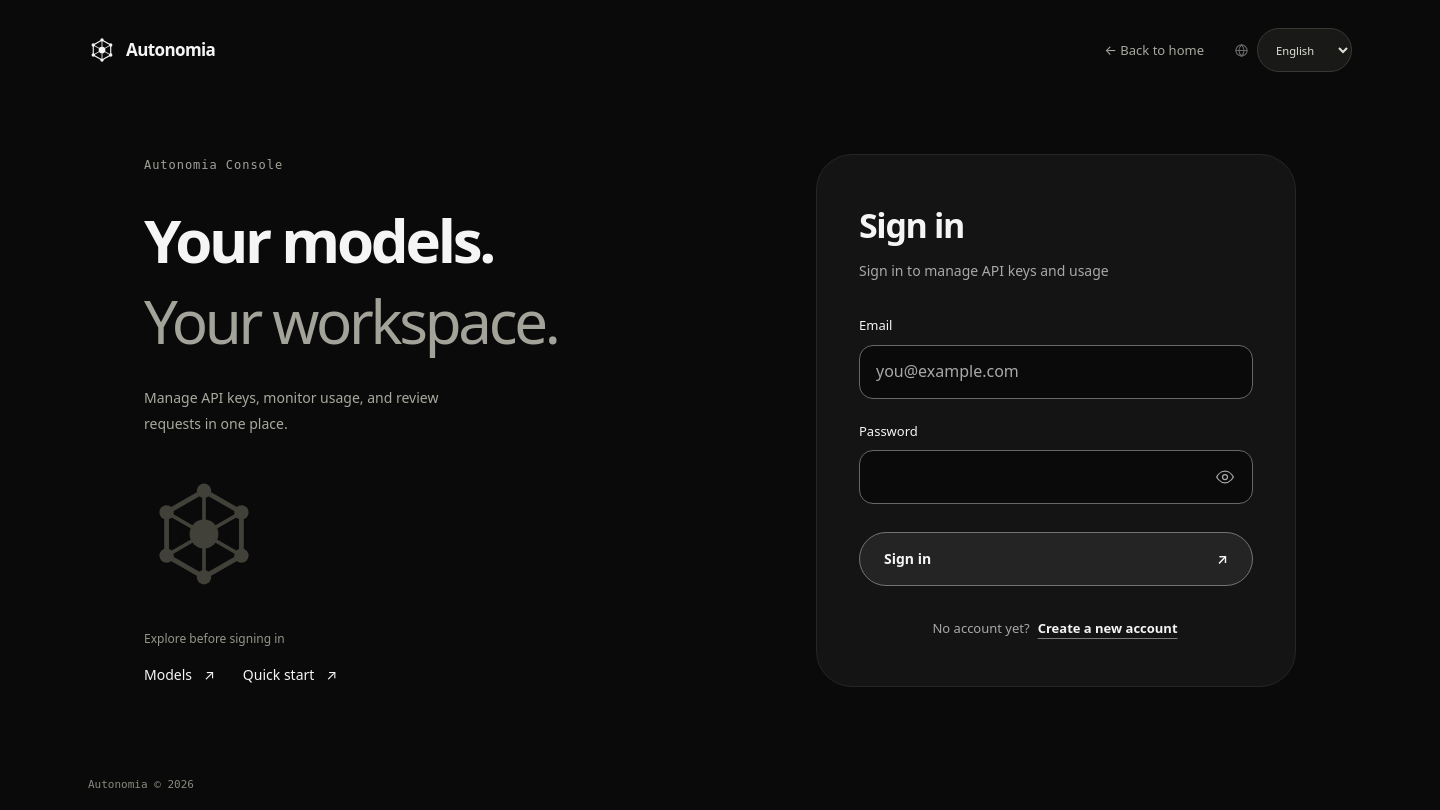
Scenario: LoginPage › toggles password visibility without losing its value in login mode
In the field labelled "Email": [1056, 372] box x1=859 y1=344 x2=1253 y2=398, type "login-test@example.com"
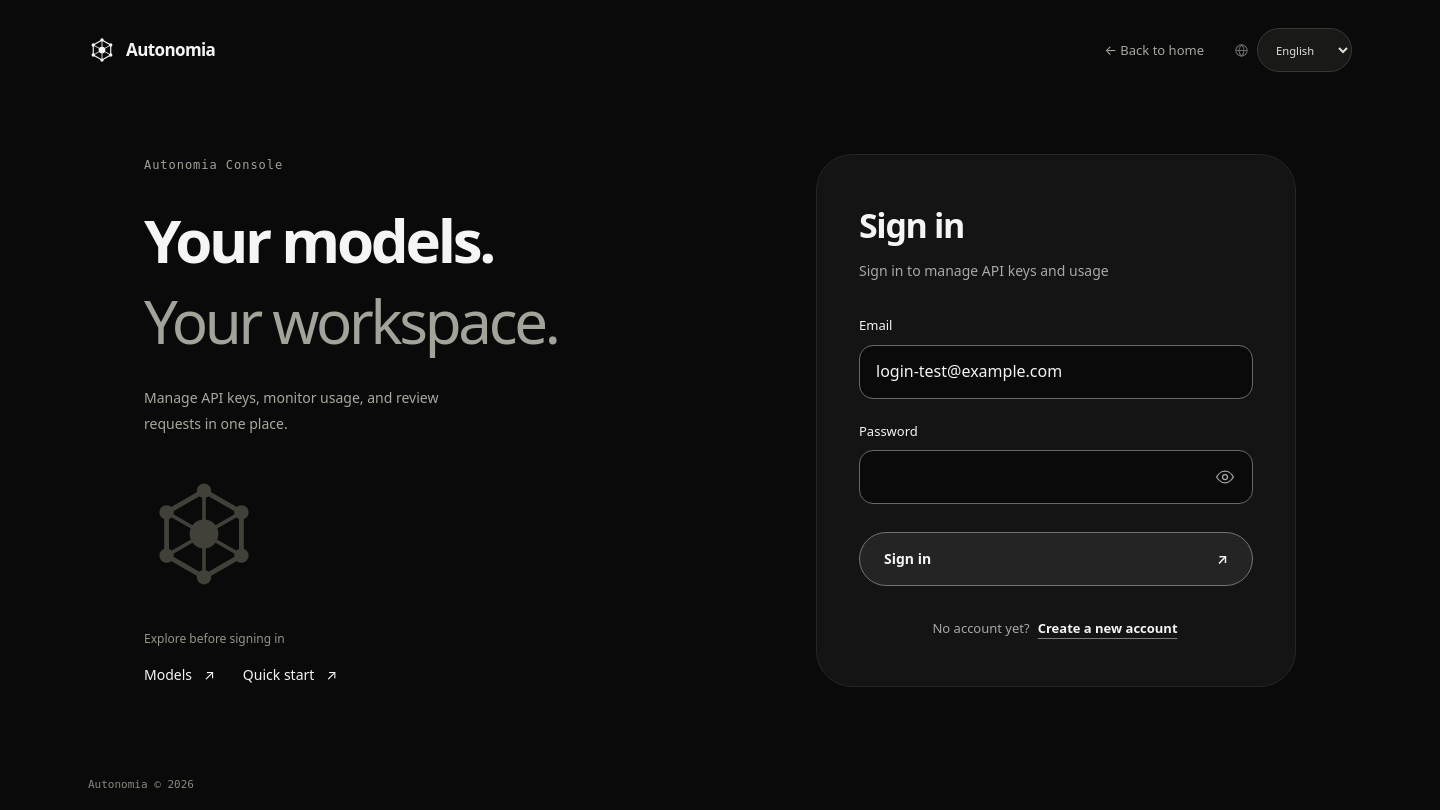
In the password field labelled "Password": [1056, 477] box x1=859 y1=450 x2=1253 y2=504, type "test-only-password"
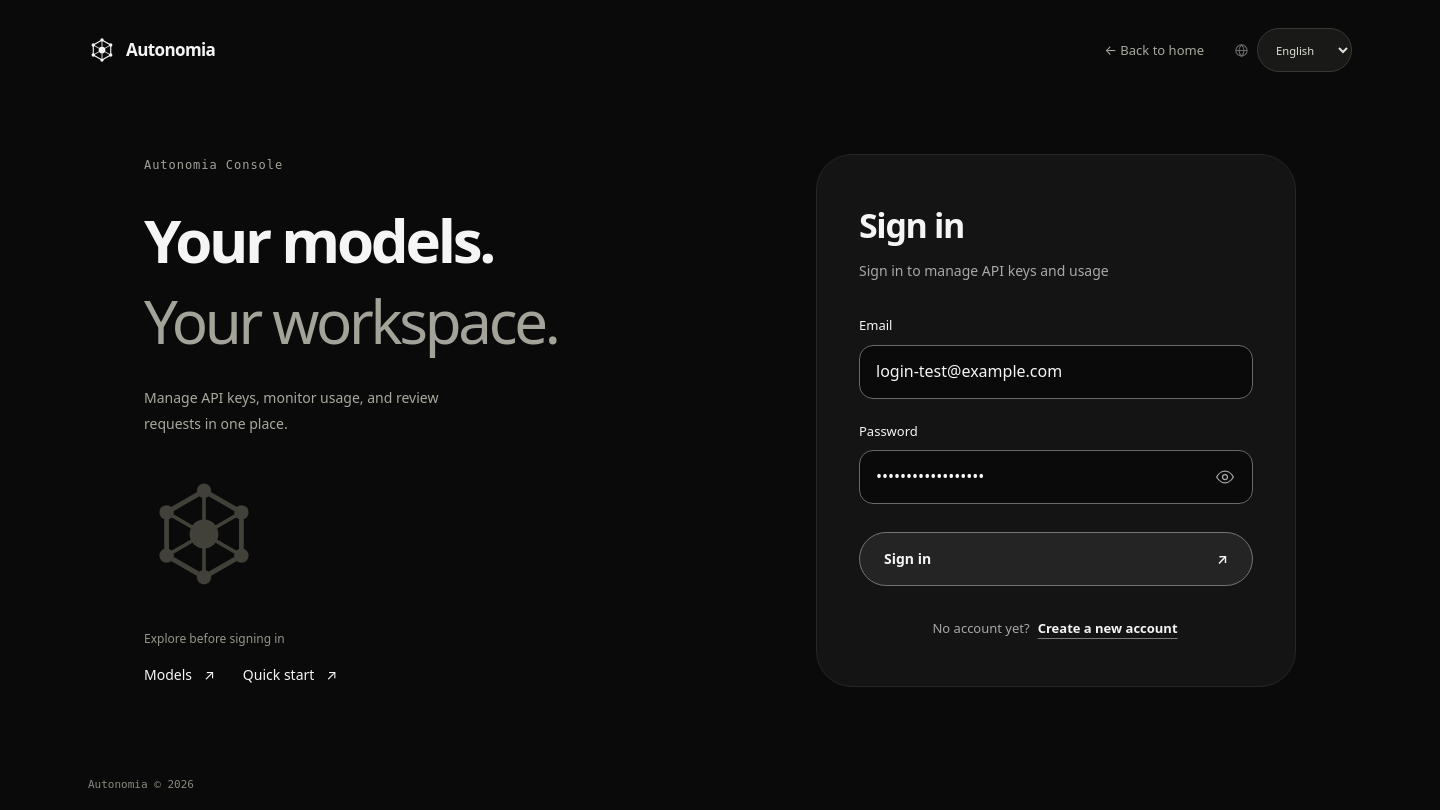
Click the button named "Show password": [1225, 477] box x1=1203 y1=455 x2=1247 y2=499
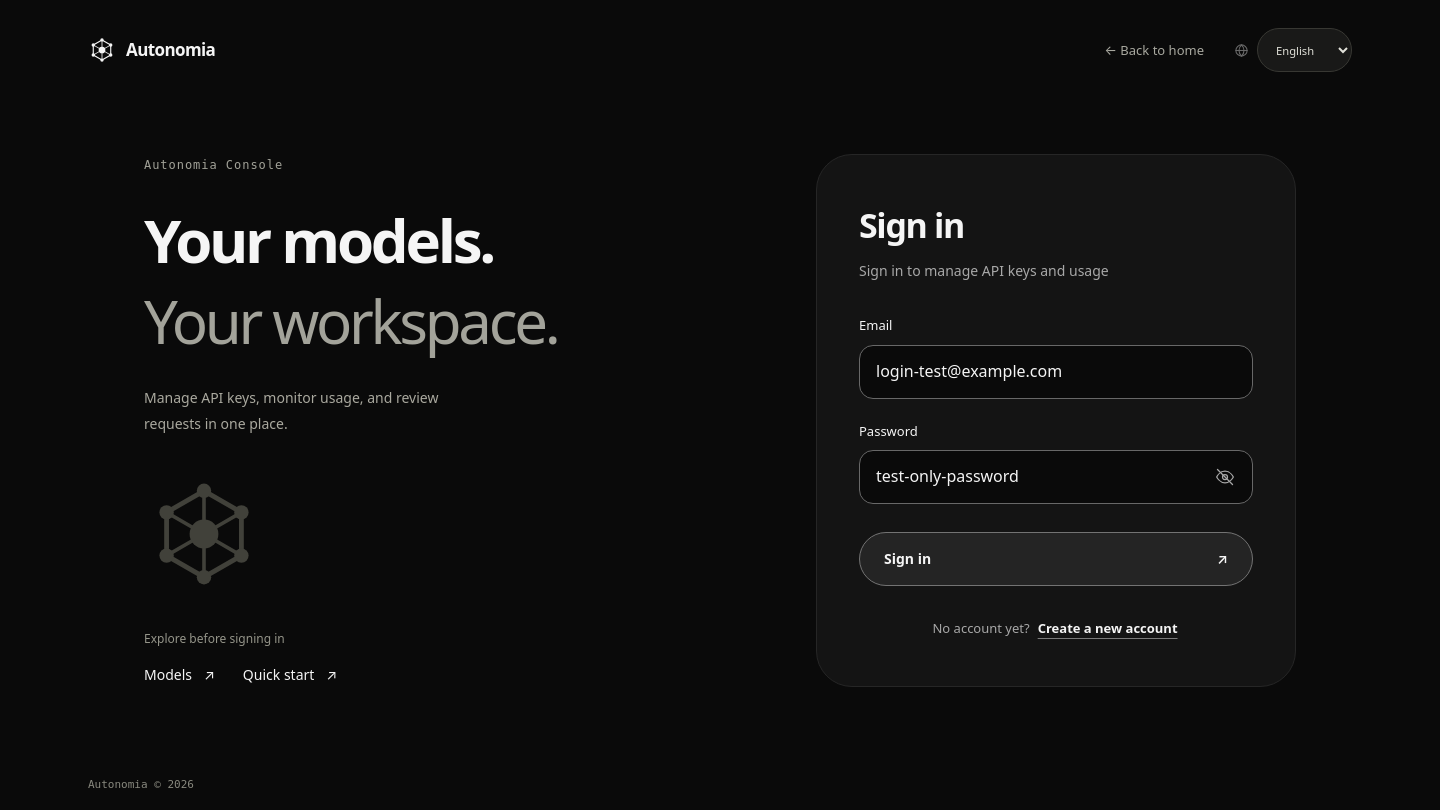
Click the button named "Hide password": [1225, 477] box x1=1203 y1=455 x2=1247 y2=499
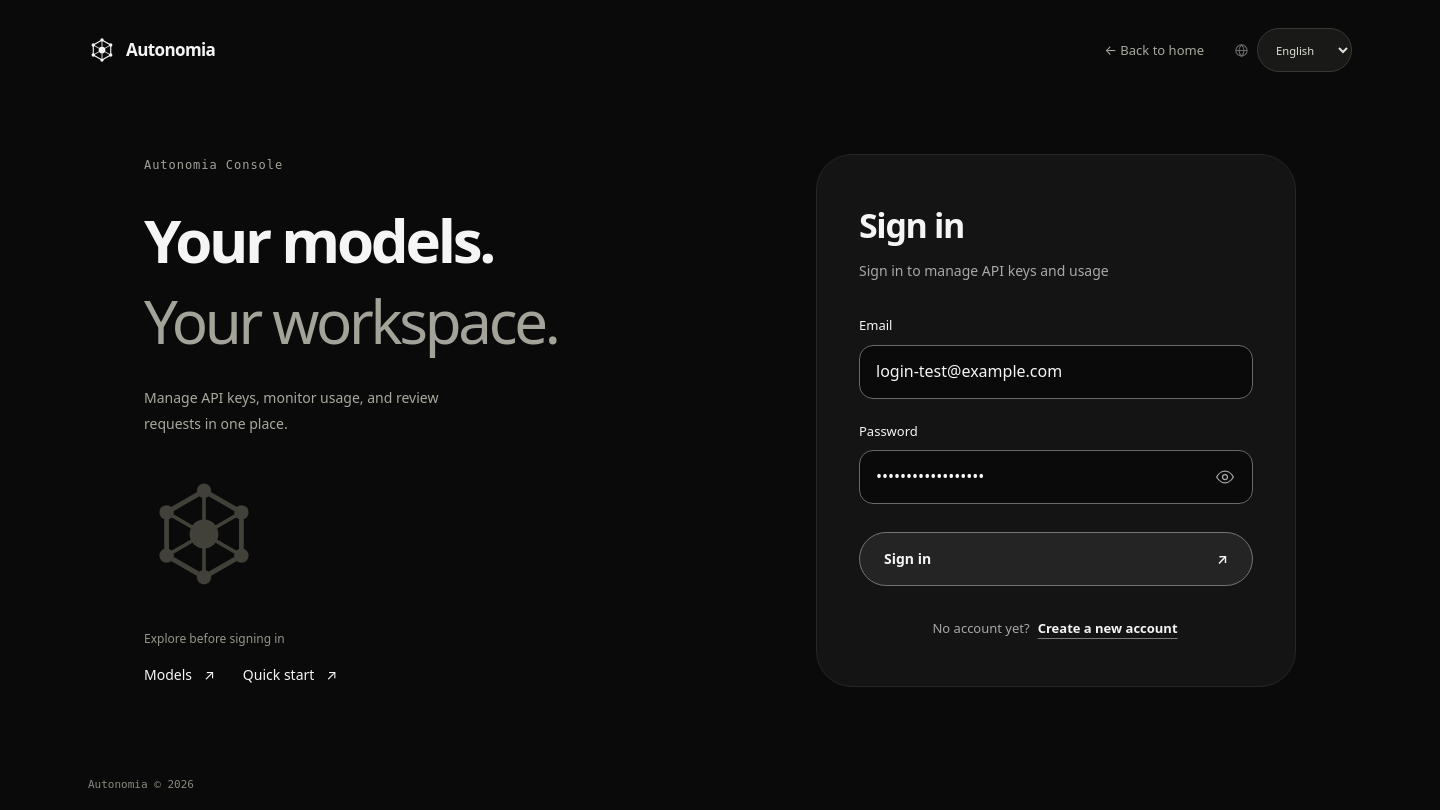
Click the button named "Show password": [1225, 477] box x1=1203 y1=455 x2=1247 y2=499
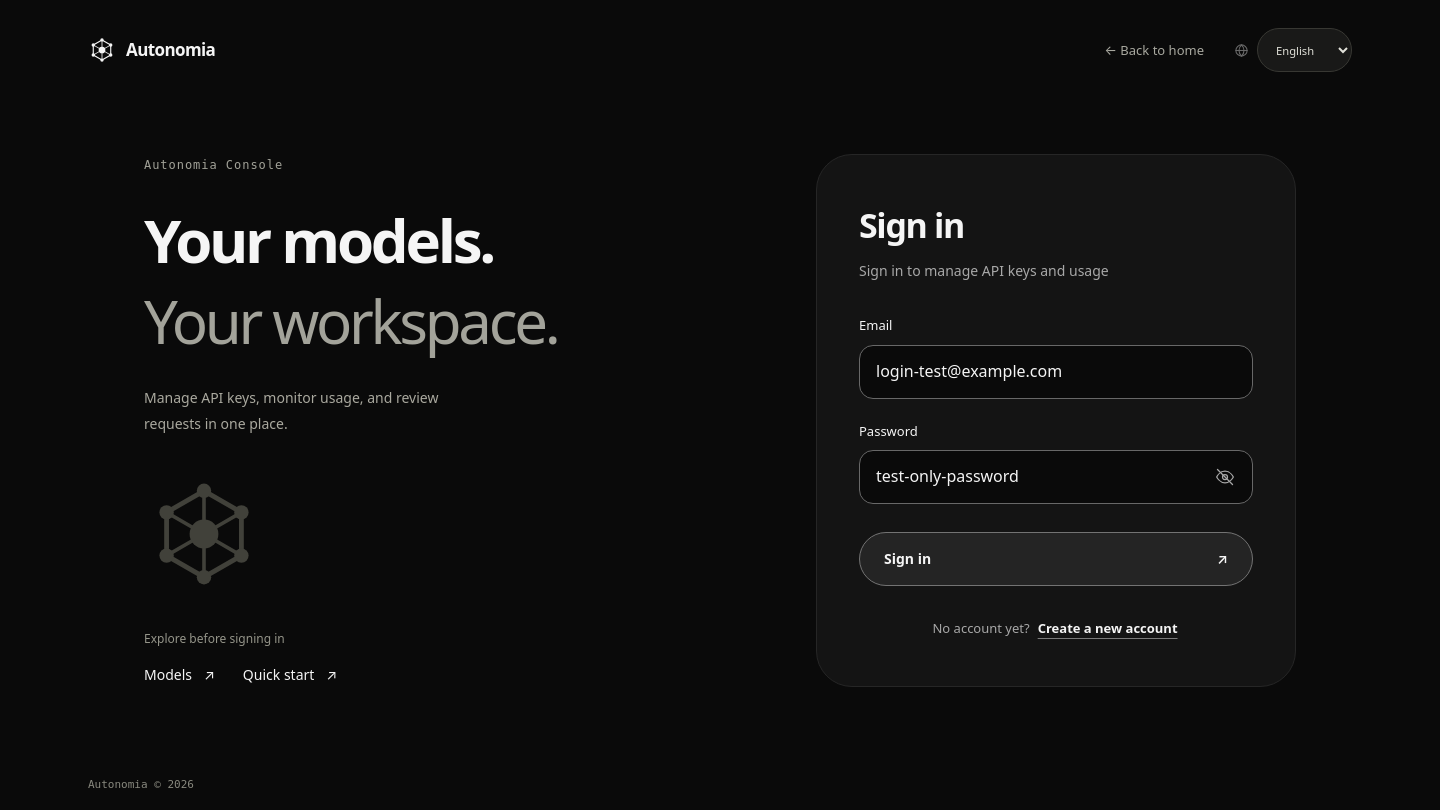
Click the button "Create a new account": [1108, 628] box x1=1036 y1=606 x2=1180 y2=650
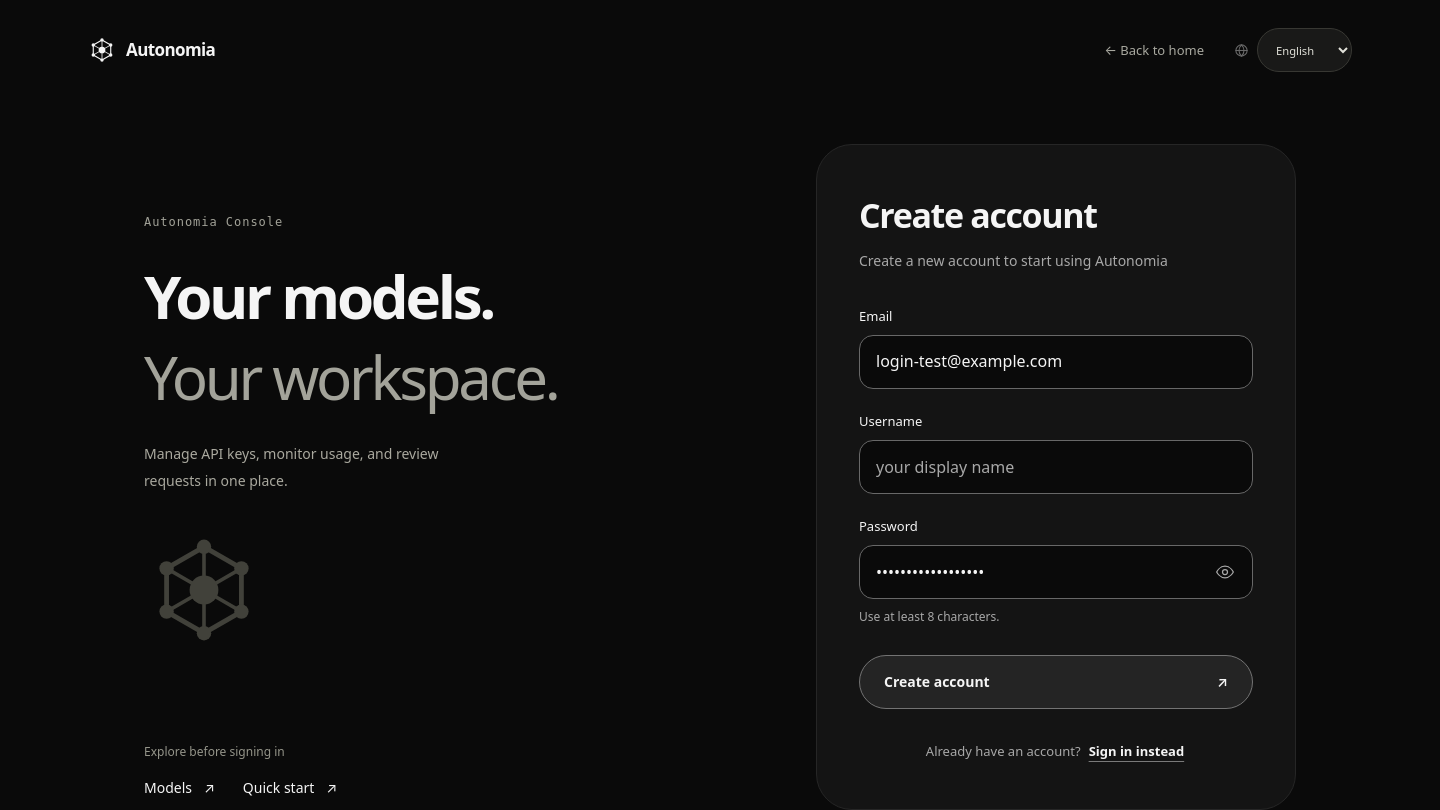
Now the button named "Show password" is shown, box x1=1203 y1=550 x2=1247 y2=594
